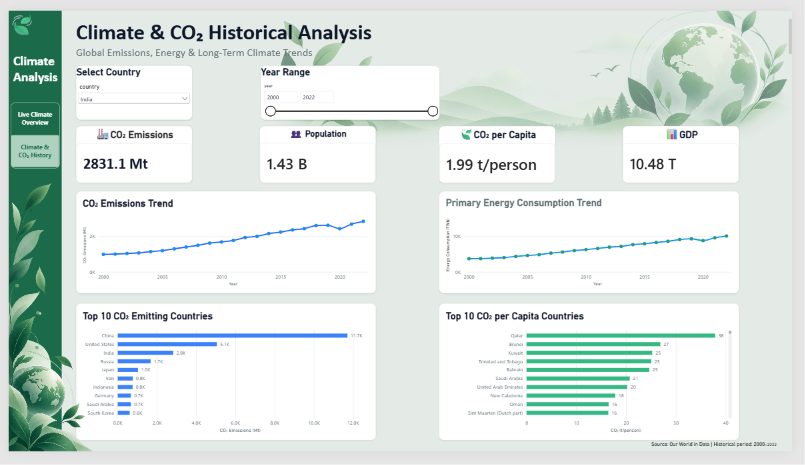

Layout of this report page (visuals, bound fields, positions):
{"tool":"powerbi","page":{"name":"Climate & CO₂ History","canvas":[1920,1080],"ordinal":1},"visuals":[{"type":"image","box":[652.5,0,1267.5,335],"z":0},{"type":"shape","box":[0,0,130,1080.5],"z":1000},{"type":"textbox","box":[165,20,1755,115],"z":2000},{"type":"slicer","title":"Select Country","fields":{"Values":["Climate History.country"]},"box":[165,135,285,132.5],"z":3000},{"type":"slicer","title":"Year Range","fields":{"Values":["Climate History.year"]},"box":[617.1,135.7,438.6,132.9],"z":4000},{"type":"cardVisual","title":"🏭CO₂ Emissions","fields":{"Data":["Climate History.CO2 Emissions Display"]},"box":[165,282.5,285,140],"z":5000},{"type":"cardVisual","title":"👥 Population","fields":{"Data":["Climate History.Population Display"]},"box":[615,282.5,285,140],"z":6000},{"type":"cardVisual","title":"🍃CO₂ per Capita","fields":{"Data":["Climate History.CO2 Per Capita Display"]},"box":[1055,282.5,285,140],"z":7000},{"type":"cardVisual","title":"📊GDP","fields":{"Data":["Climate History.GDP Display"]},"box":[1505,282.5,285,140],"z":8000},{"type":"lineChart","title":"CO₂ Emissions Trend","fields":{"Category":["Climate History.year"],"Y":["Sum(Climate History.co2)"]},"box":[165,442.5,735,250],"z":9000},{"type":"clusteredBarChart","title":"Top 10 CO₂ Emitting Countries","fields":{"Category":["Climate History.country"],"Y":["Climate History.CO2 Latest Selected Year"]},"box":[165,717.5,735,335],"z":10000},{"type":"clusteredBarChart","title":"Top 10 CO₂ per Capita Countries","fields":{"Category":["Comparison Countries.country"],"Y":["Climate History.CO2 Per Capita Comparison"]},"box":[1055,717.5,735,335],"z":11000},{"type":"lineChart","title":"Primary Energy Consumption Trend","fields":{"Category":["Climate History.year"],"Y":["Sum(Climate History.primary_energy_consumption)"]},"box":[1055,442.5,735,250],"z":12000},{"type":"textbox","box":[0,84.2,131,109.9],"z":13000},{"type":"pageNavigator","box":[5.7,224.3,120,161.4],"z":14000},{"type":"textbox","box":[0,0,120,90],"z":15000},{"type":"image","box":[0,405,405,675],"z":16000},{"type":"textbox","box":[900,1052.5,982.5,27.5],"z":17000}]}

Visuals, with their boxes in screenshot pixels (x1, y1, x2, y2), scaled from the page's 1920x1080 canvas onto the 805x465 screenshot:
image: left=274, top=0, right=804, bottom=144
shape: left=0, top=0, right=55, bottom=464
textbox: left=69, top=9, right=804, bottom=58
"Select Country" slicer: left=69, top=58, right=189, bottom=115
"Year Range" slicer: left=259, top=58, right=443, bottom=116
"🏭CO₂ Emissions" cardVisual: left=69, top=122, right=189, bottom=182
"👥 Population" cardVisual: left=258, top=122, right=377, bottom=182
"🍃CO₂ per Capita" cardVisual: left=442, top=122, right=562, bottom=182
"📊GDP" cardVisual: left=631, top=122, right=750, bottom=182
"CO₂ Emissions Trend" lineChart: left=69, top=191, right=377, bottom=298
"Top 10 CO₂ Emitting Countries" clusteredBarChart: left=69, top=309, right=377, bottom=453
"Top 10 CO₂ per Capita Countries" clusteredBarChart: left=442, top=309, right=750, bottom=453
"Primary Energy Consumption Trend" lineChart: left=442, top=191, right=750, bottom=298
textbox: left=0, top=36, right=55, bottom=84
pageNavigator: left=2, top=97, right=53, bottom=166
textbox: left=0, top=0, right=50, bottom=39
image: left=0, top=174, right=170, bottom=464
textbox: left=377, top=453, right=789, bottom=464
